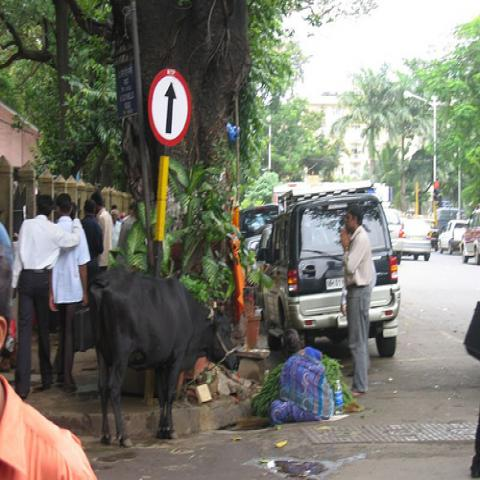car: (255, 191, 401, 358), (239, 203, 279, 240), (383, 208, 407, 266), (400, 219, 432, 262), (436, 220, 468, 255), (460, 214, 479, 266), (253, 223, 274, 253), (436, 210, 464, 230)
truck: (259, 192, 402, 359)
